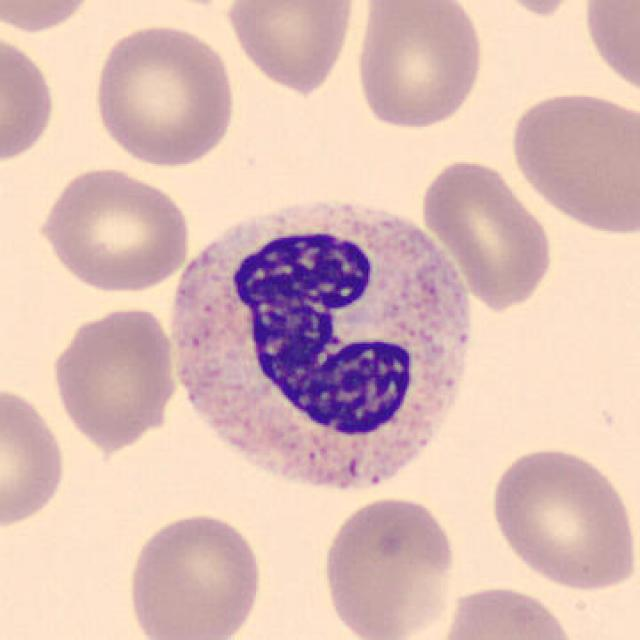Neutrophil: (164, 187, 478, 511)
RBC: (484, 443, 636, 594), (89, 18, 240, 169), (416, 155, 556, 314), (316, 492, 461, 640), (34, 164, 194, 294), (48, 302, 181, 452), (505, 86, 638, 236), (122, 508, 266, 640), (350, 0, 489, 132), (221, 0, 359, 97), (0, 380, 69, 534), (434, 582, 580, 640), (0, 27, 59, 170), (577, 0, 638, 102), (0, 0, 101, 37), (478, 0, 594, 18)
